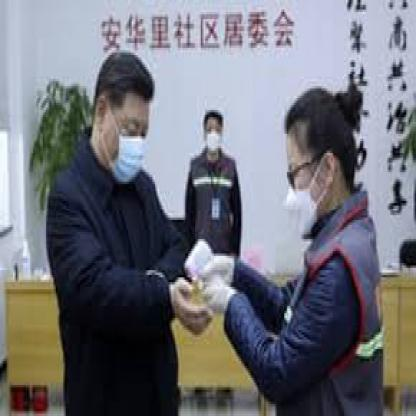Wearing_Mask: (278, 115, 333, 244), (100, 67, 155, 194), (201, 103, 225, 158)
